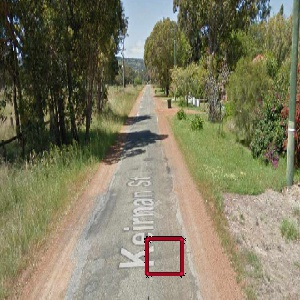square: (142, 235, 187, 279)
